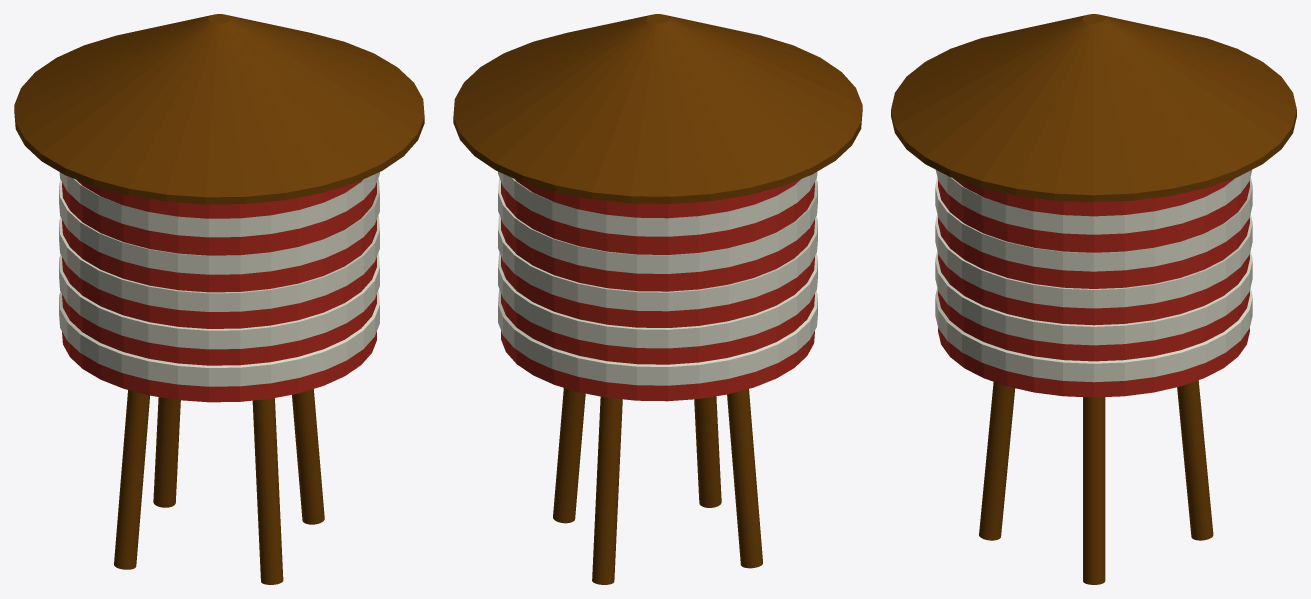
File: WaterTower.fbx
3 renders of one model, left to right at view 1: azimuth 30°, elevation 25°; view 2: azimuth 150°, elevation 25°; view 3: azimuth 270°, elevation 25°, orthographic.
Parts seen in each view (by area): view 1: Cylinder, Cylinder.002, Cylinder.004, Cylinder.003, Cylinder.001; view 2: Cylinder, Cylinder.001, Cylinder.004, Cylinder.003, Cylinder.002; view 3: Cylinder, Cylinder.003, Cylinder.001, Cylinder.002.
Boxes of the visible parts, x1,y1,x2,y2 form: Cylinder: [14, 14, 424, 402]; Cylinder.002: [252, 398, 283, 584]; Cylinder.004: [114, 390, 149, 569]; Cylinder.003: [292, 389, 324, 524]; Cylinder.001: [153, 397, 180, 507]; Cylinder: [453, 14, 862, 401]; Cylinder.001: [592, 396, 622, 584]; Cylinder.004: [727, 389, 762, 568]; Cylinder.003: [553, 388, 585, 523]; Cylinder.002: [694, 396, 721, 507]; Cylinder: [891, 14, 1296, 397]; Cylinder.003: [1083, 397, 1105, 584]; Cylinder.001: [1177, 380, 1213, 540]; Cylinder.002: [979, 382, 1015, 540].
Size of the model in its own units: 731 by 1030 by 731.
